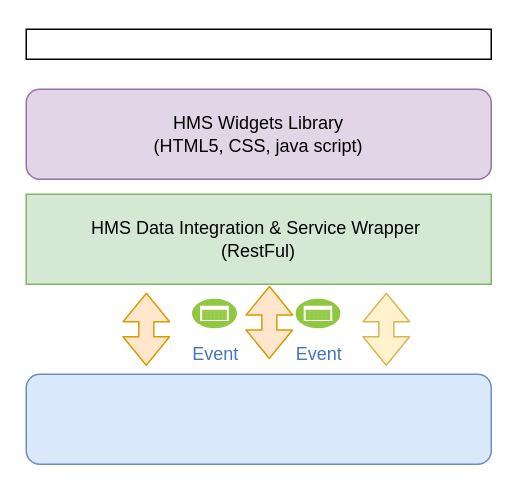
Image size: 518x491. Some labels were removed from this diagram. The centre of each missing label's shape, as x and y in pixels:
HMS Health Platform (EHR,EMPI, IAS, Messaging, Analytics): the point at 258,418
HMS SDK Reference Architecture: the point at 258,43
